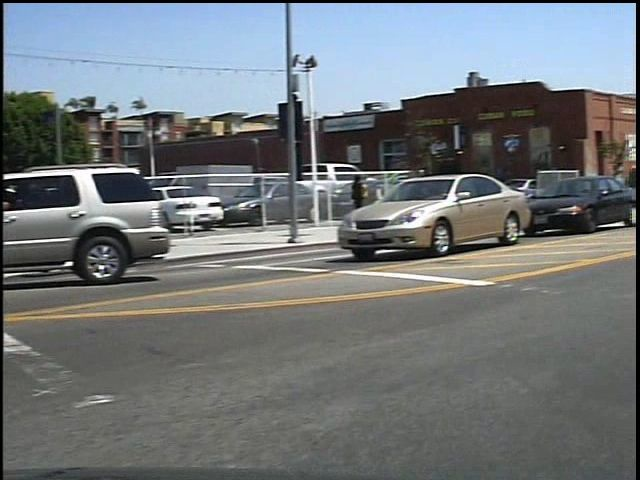person: (356, 169, 382, 229)
